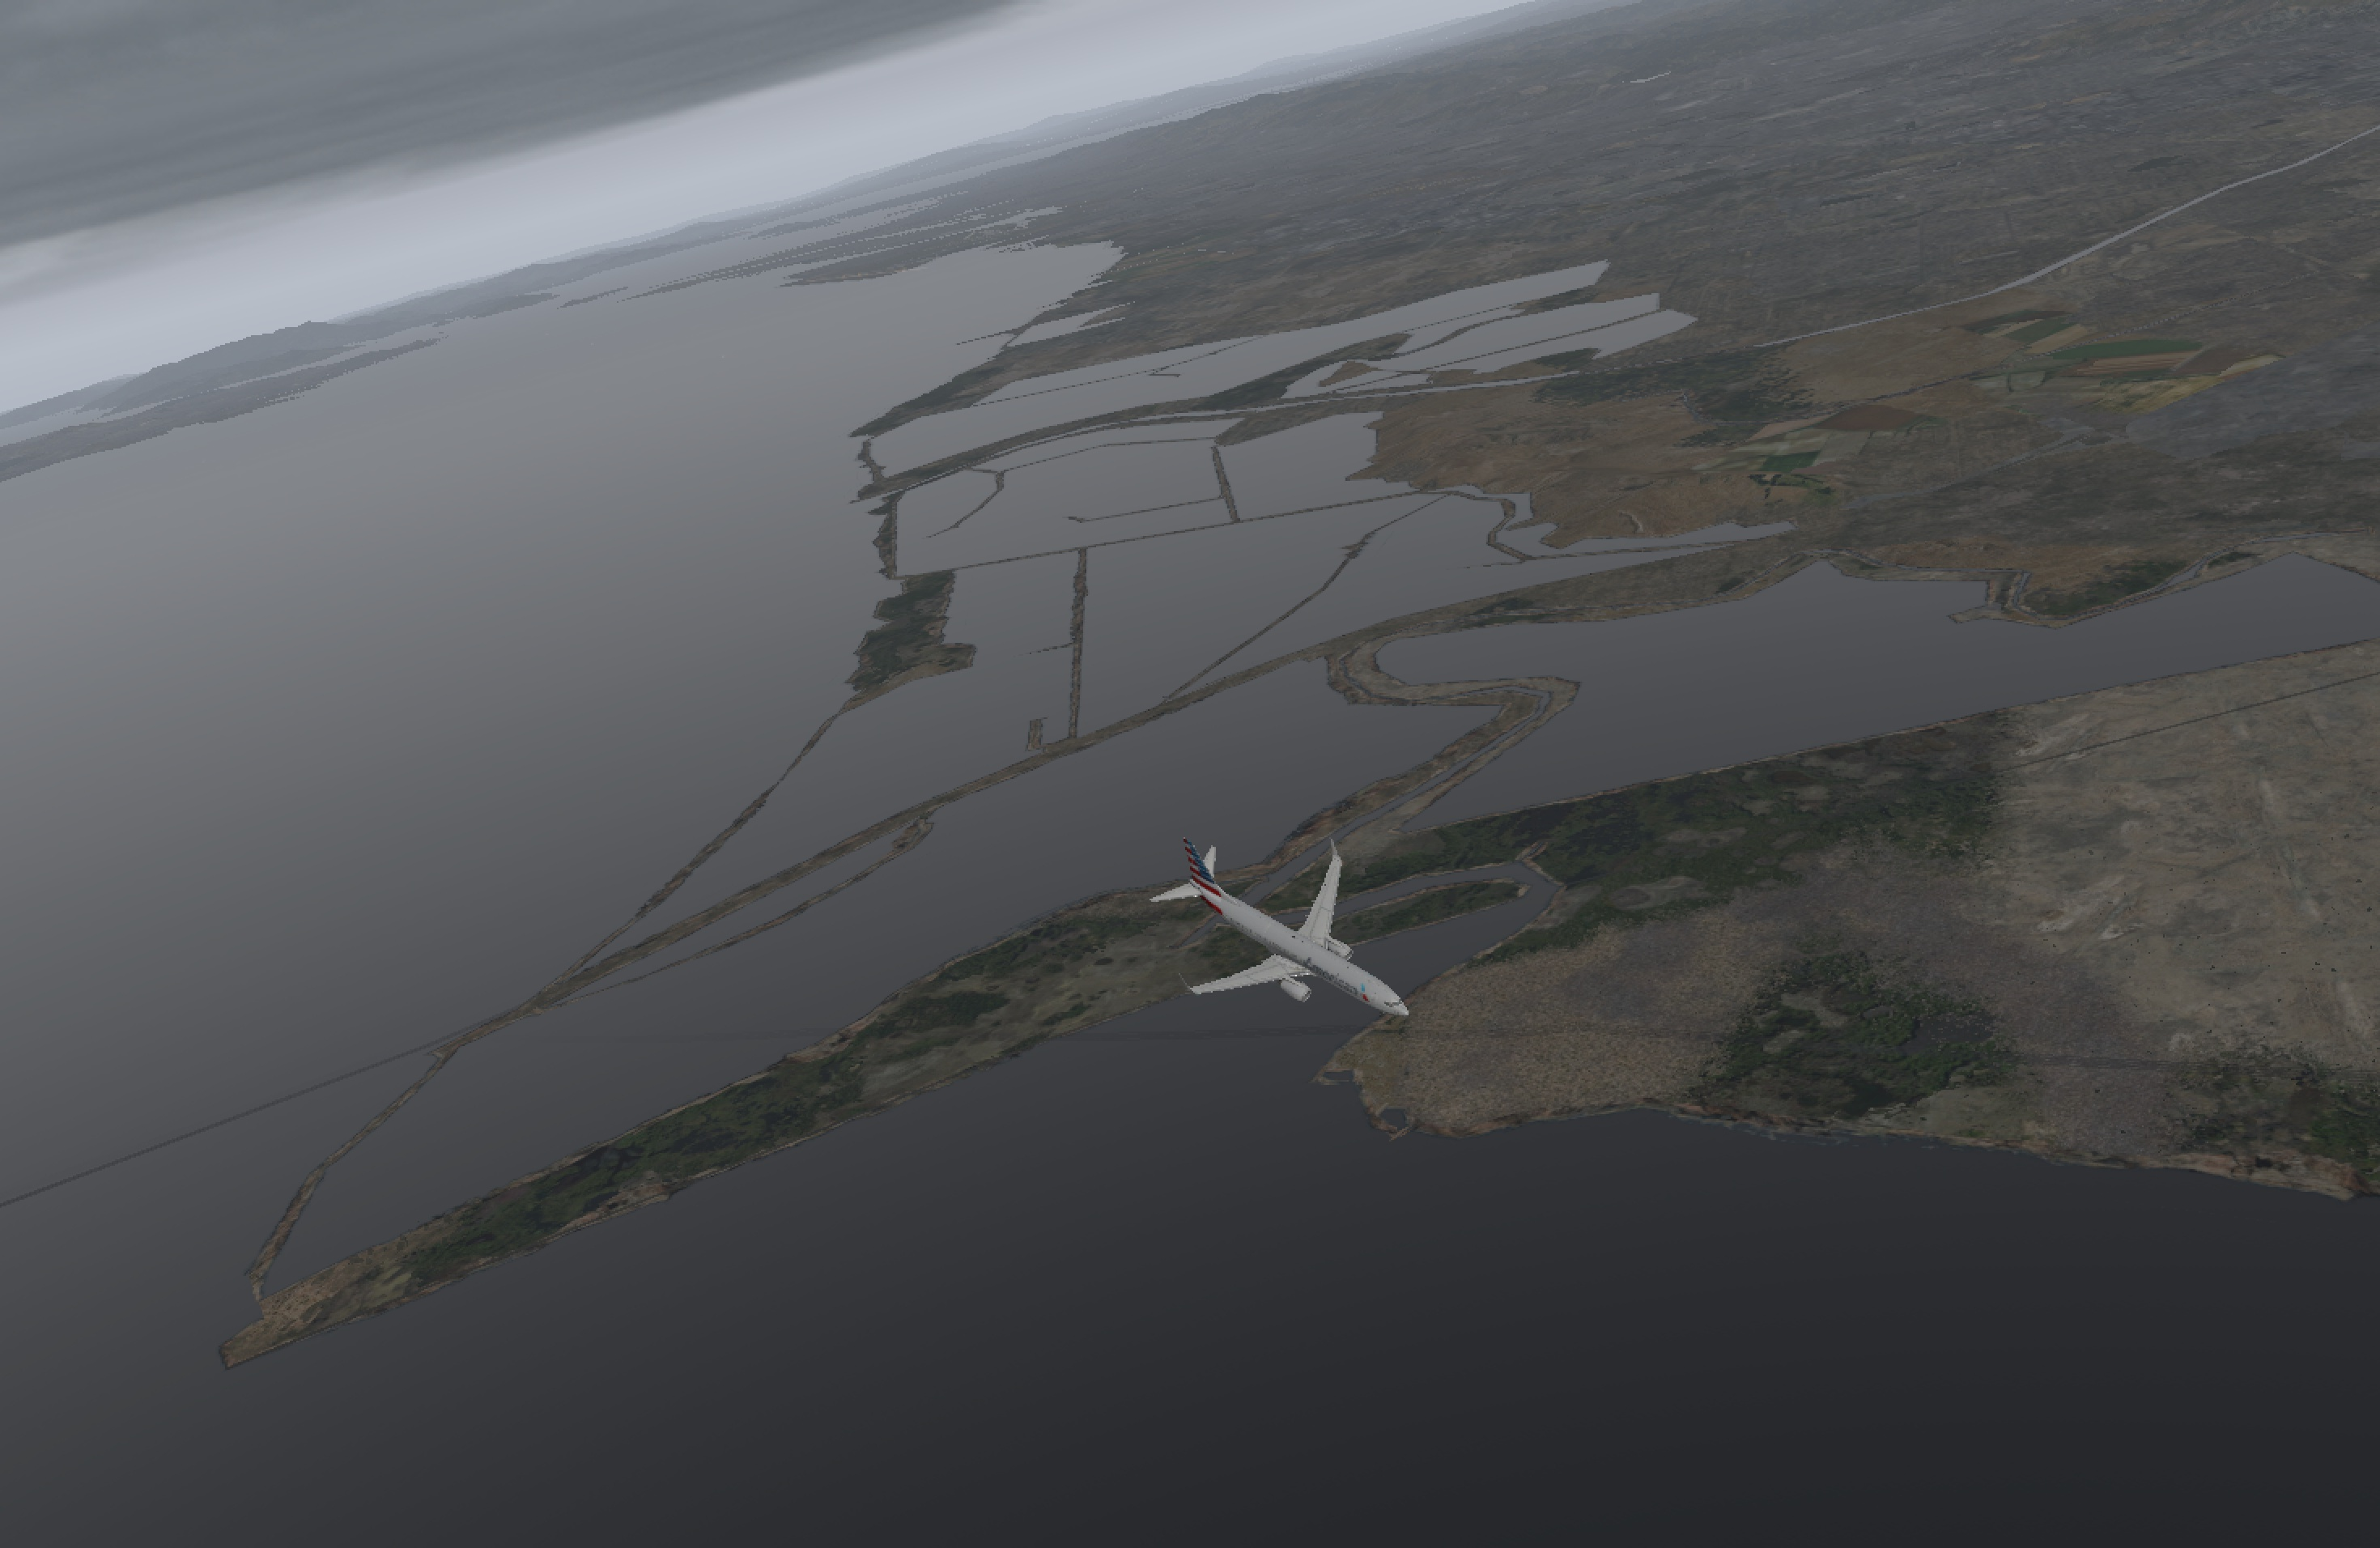aircraft: (1159, 901, 1440, 1007)
